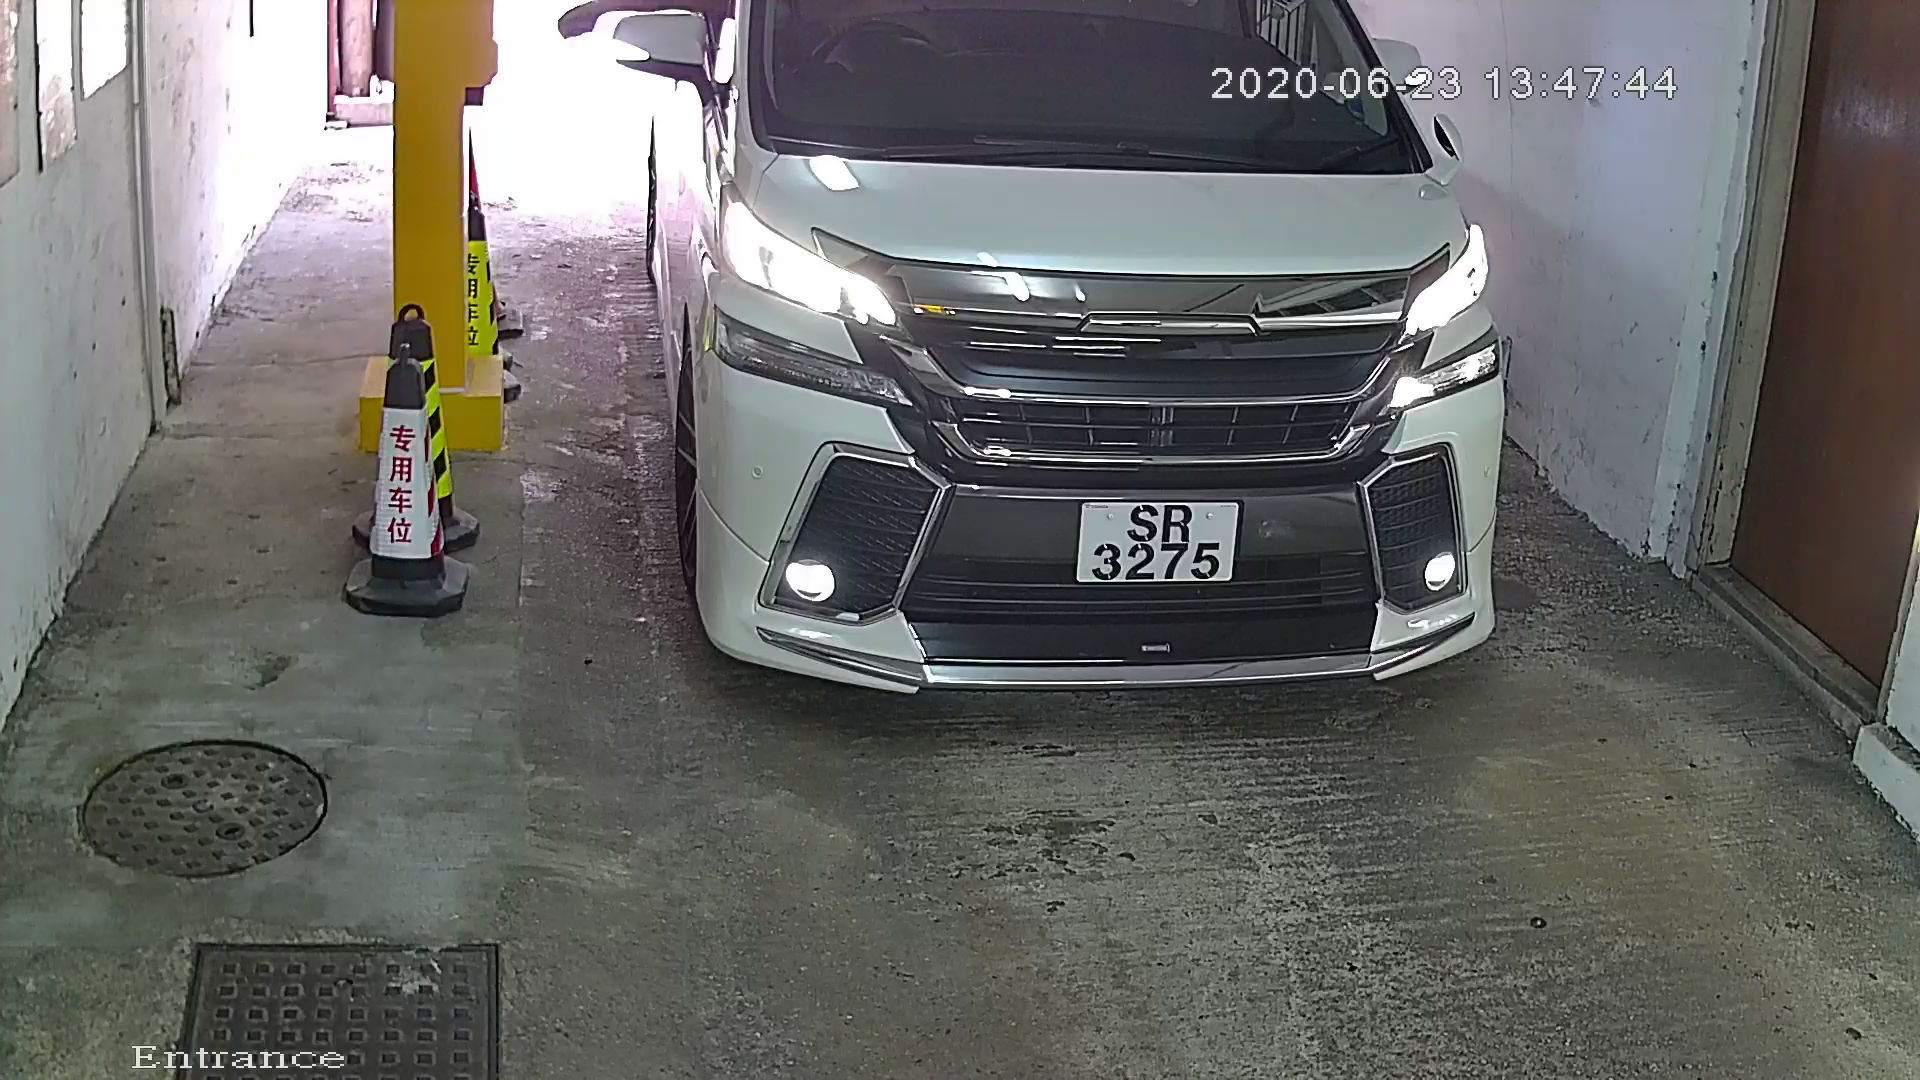privatecar: (601, 1, 1536, 742)
